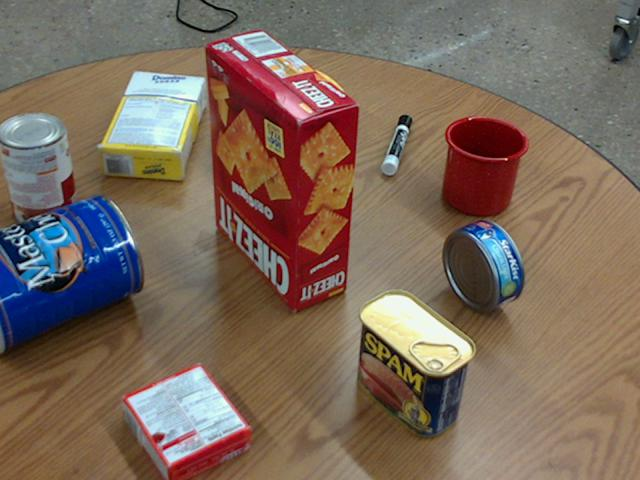cracker_box: (204, 30, 358, 310)
gelatin_box: (122, 362, 251, 479)
large_marker: (382, 114, 412, 174)
master_chef_can: (0, 193, 142, 354)
mug: (440, 115, 527, 215)
mustard_bottle: (216, 67, 344, 160)
potted_meat_can: (356, 289, 476, 436)
sugar_box: (98, 69, 205, 179)
tomato_soup_can: (0, 112, 77, 229)
tuna_fish_can: (443, 218, 523, 311)
